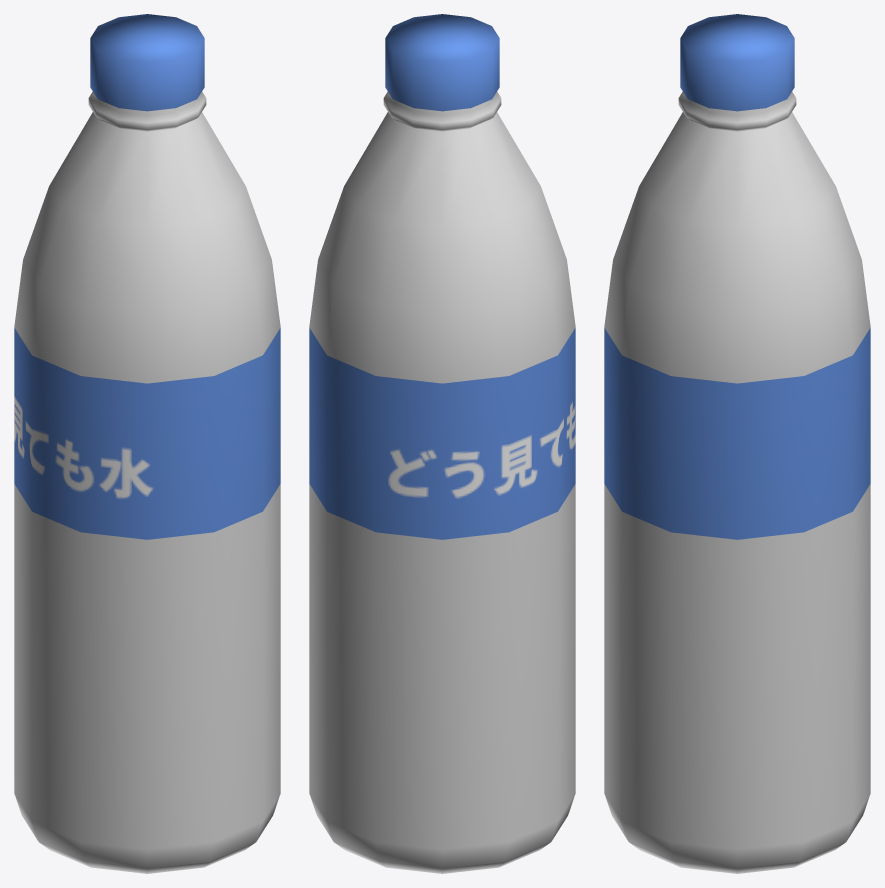
Rendered from Bottle_01.fbx.
The picture shows the model from 3 angles, left to right: view 1: azimuth 30°, elevation 25°; view 2: azimuth 150°, elevation 25°; view 3: azimuth 270°, elevation 25°; orthographic projection.
Visible parts, largest first — view 1: pCylinder10, pCylinder11; view 2: pCylinder10, pCylinder11; view 3: pCylinder10, pCylinder11.
Part boxes in pixels (x1,y1,x2,y2): pCylinder10: (14, 91, 280, 873); pCylinder11: (90, 14, 204, 111); pCylinder10: (309, 91, 575, 873); pCylinder11: (385, 14, 499, 111); pCylinder10: (604, 91, 870, 873); pCylinder11: (680, 14, 794, 111).
Size of the model in its own units: 6.81 by 22.22 by 6.81.
Materials: 3 (1 with a texture image).
